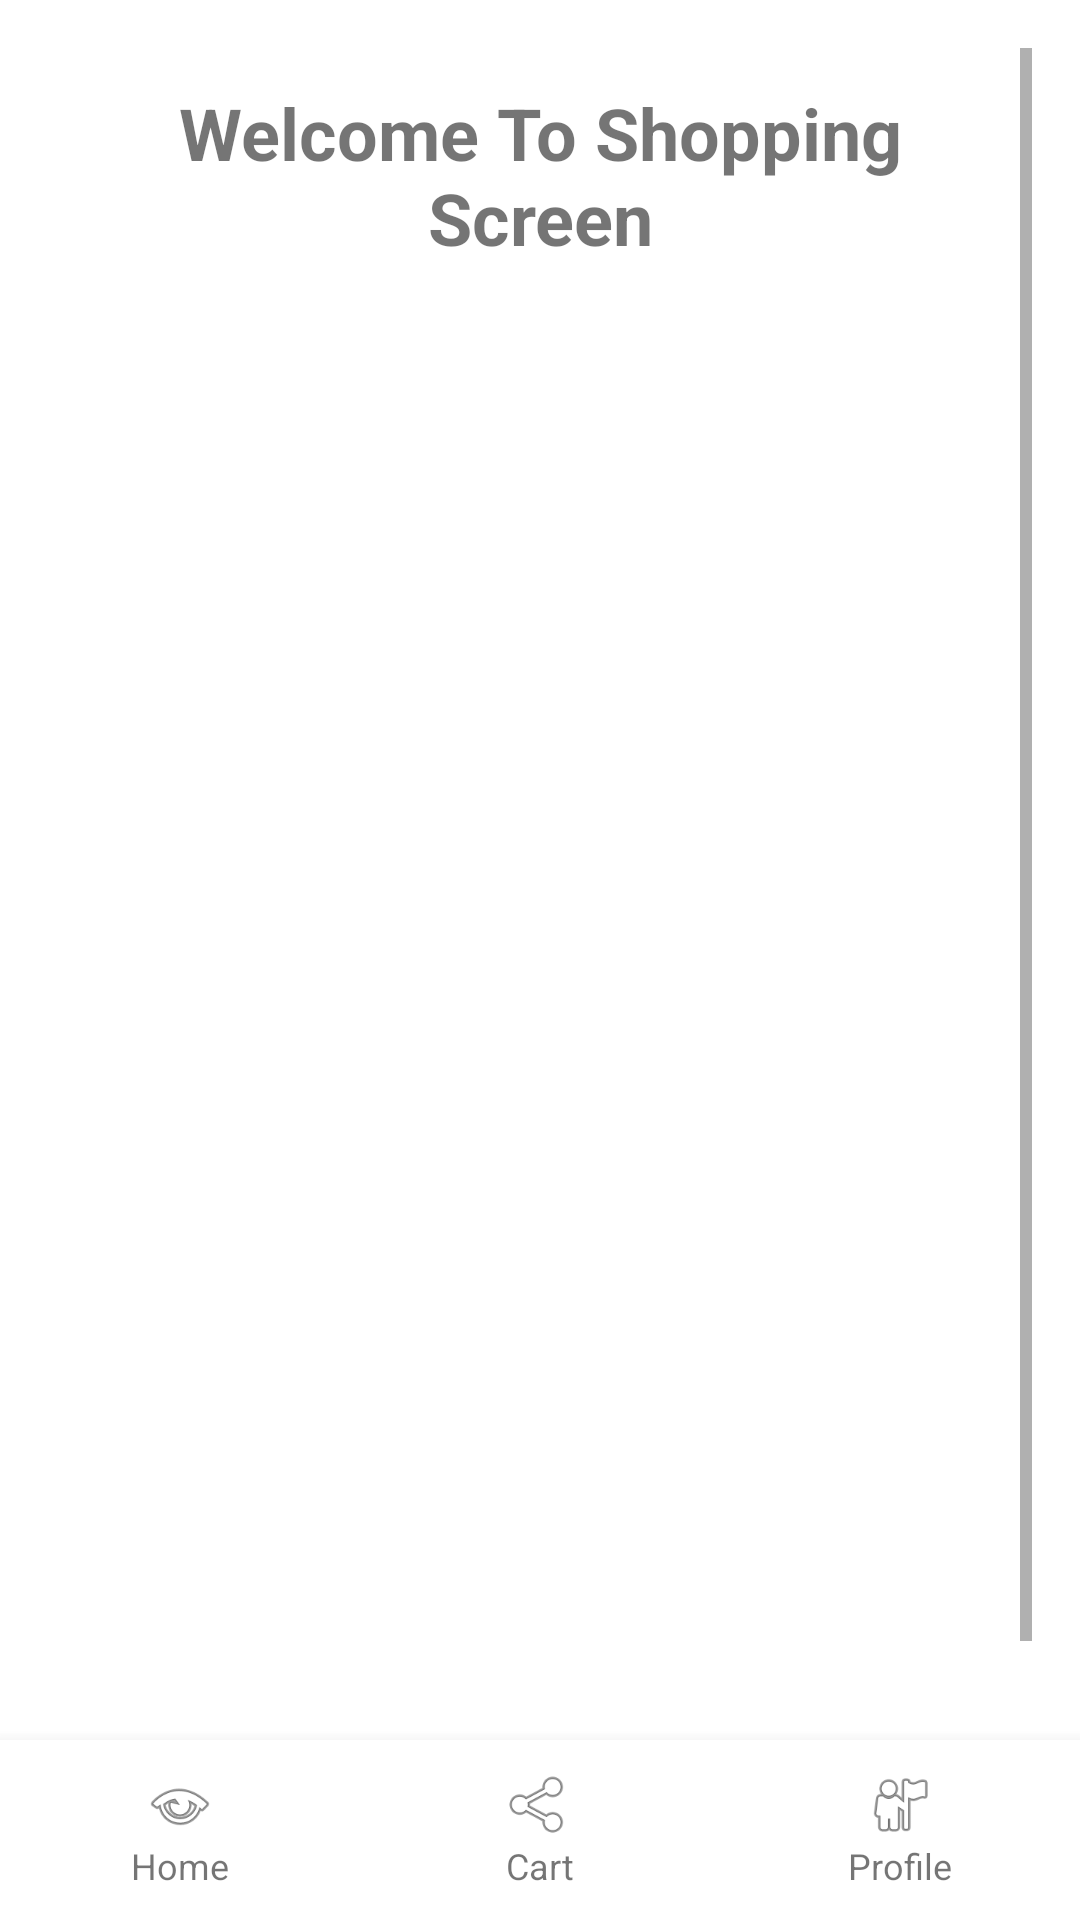

Point at icon controls on the screen. Image size 1080px x 1920px, points as [x,y].
myplaces: [901,1805]
share: [536,1804]
view: [180,1806]
